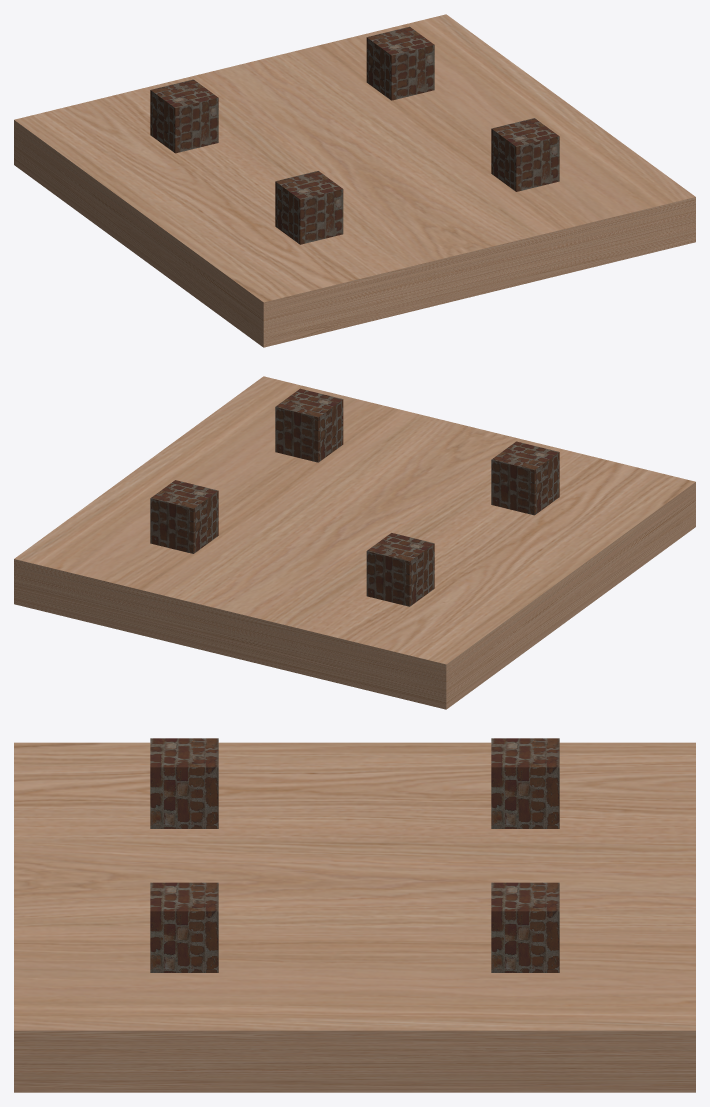
Rendered from CubeFloor.fbx.
The picture shows the model from 3 angles, top to bottom: view 1: azimuth 30°, elevation 25°; view 2: azimuth 150°, elevation 25°; view 3: azimuth 270°, elevation 25°; orthographic projection. The views are drawn at different scales.
Visible parts, largest first — view 1: Cube, Cube.003, Cube.004, Cube.002, Cube.001; view 2: Cube, Cube.001, Cube.002, Cube.003, Cube.004; view 3: Cube, Cube.001, Cube.002, Cube.003, Cube.004.
Part boxes in pixels (<box>): Cube: <box>14,14,695,347</box>; Cube.003: <box>366,26,434,100</box>; Cube.004: <box>150,79,218,153</box>; Cube.002: <box>491,118,559,191</box>; Cube.001: <box>275,171,343,244</box>; Cube: <box>14,376,695,709</box>; Cube.001: <box>491,441,559,515</box>; Cube.002: <box>275,388,343,462</box>; Cube.003: <box>150,480,218,553</box>; Cube.004: <box>366,533,434,606</box>; Cube: <box>14,742,695,1092</box>; Cube.001: <box>150,738,218,828</box>; Cube.002: <box>150,882,218,972</box>; Cube.003: <box>491,882,559,972</box>; Cube.004: <box>491,738,559,828</box>.
Bounding box in the file's own units: 20 × 4 × 20.
